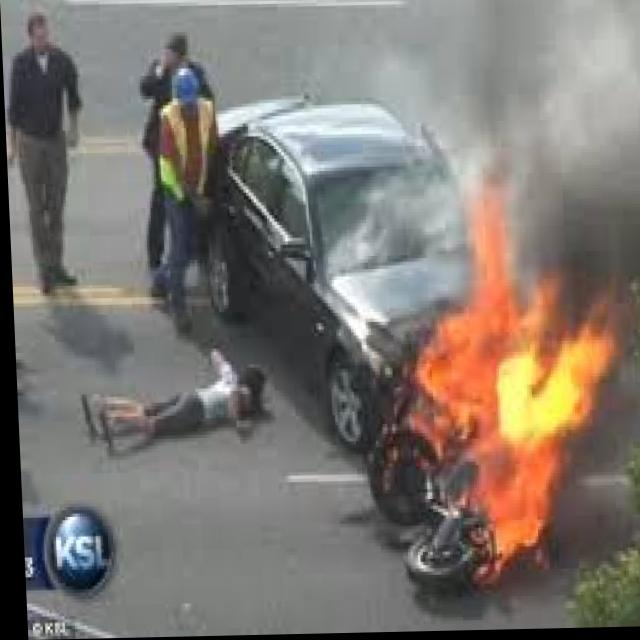fire: (373, 204, 629, 581)
